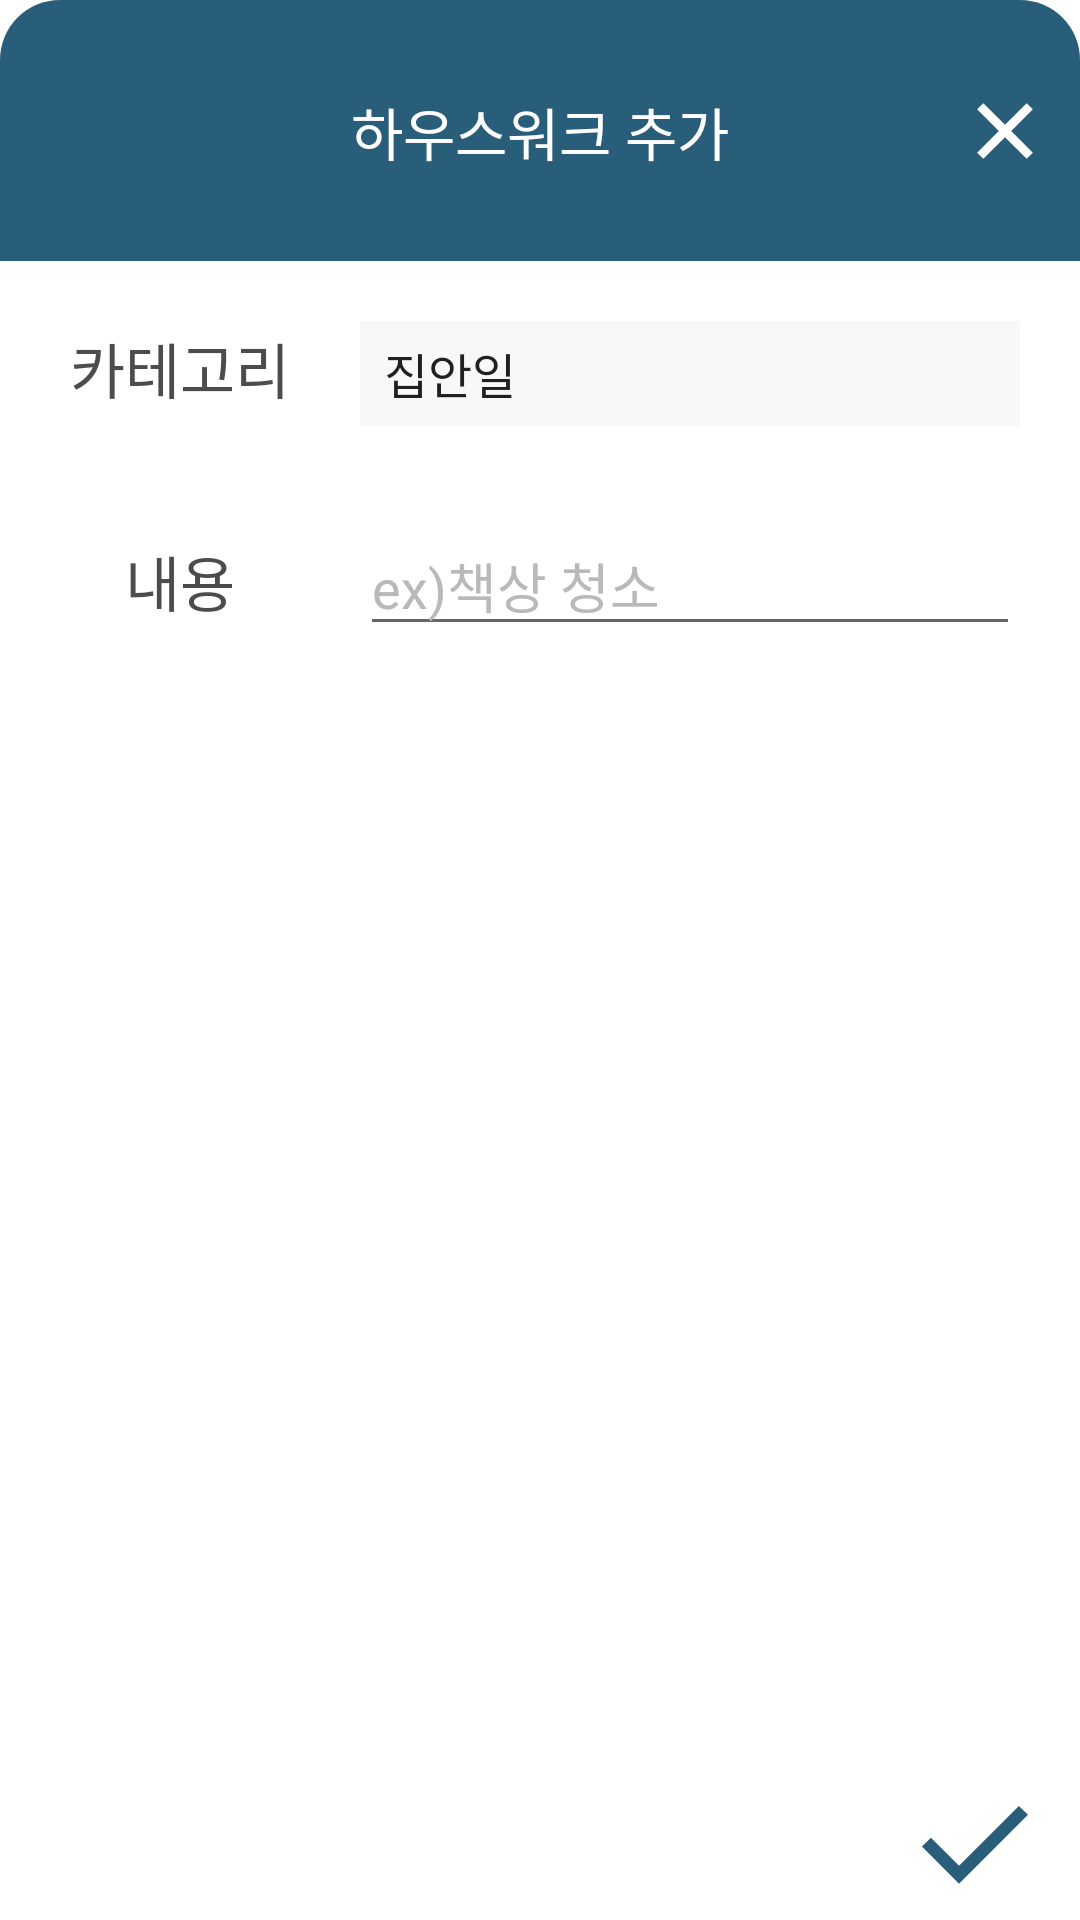

Icon click points for this 1080 x 1920 phone screenshot, format (x=x, y=y):
check: (x=975, y=1845)
close: (x=1005, y=131)
